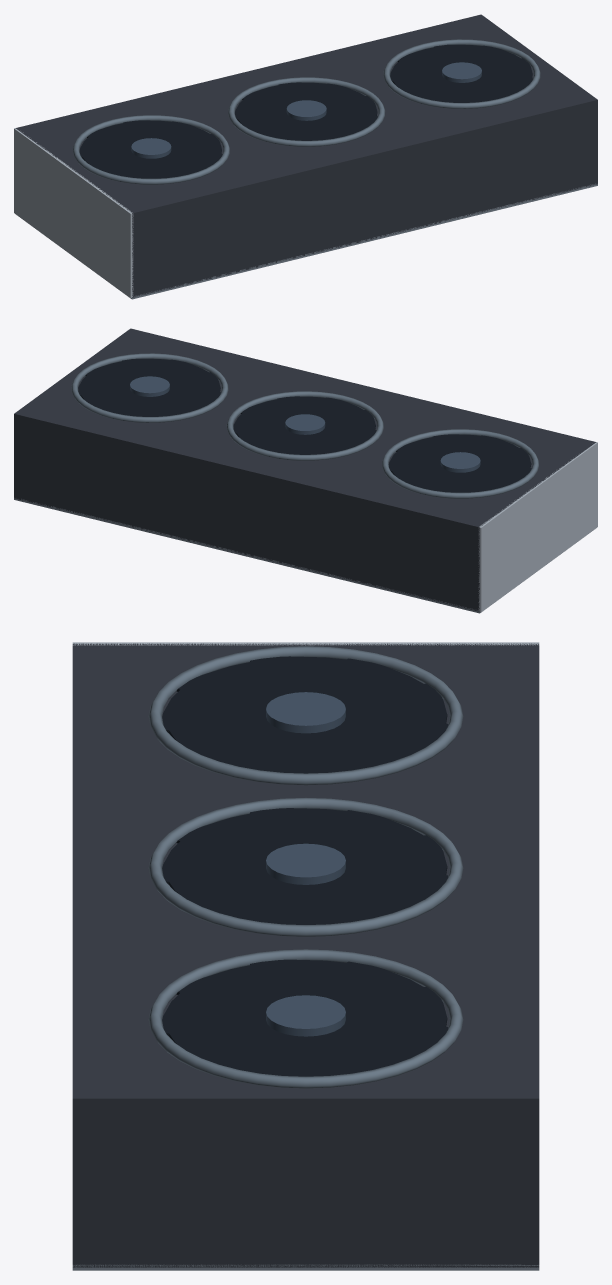
The model's file is retail-msi-geforce-rtx-3060-gaming-x-trio-12g.glb.
The picture shows the model from 3 angles, top to bottom: view 1: azimuth 30°, elevation 25°; view 2: azimuth 150°, elevation 25°; view 3: azimuth 270°, elevation 25°; orthographic projection. The views are drawn at different scales.
Visible parts, largest first — view 1: Cooler shroud, Cooler blade (×27), Bracket, Fan rim (×3), Fan hub (×3), Backplate; view 2: Cooler shroud, Cooler blade (×27), Bracket, Fan rim (×3), Fan hub (×3), Backplate; view 3: Cooler shroud, Cooler blade (×27), Fan rim (×3), Fan hub (×3), Backplate, Bracket.
Part boxes in pixels (<box>): Cooler shroud: <box>15,14,597,297</box>; Cooler blade (×27): <box>79,44,532,178</box>; Bracket: <box>14,128,133,298</box>; Fan rim (×3): <box>73,39,540,184</box>; Fan hub (×3): <box>131,62,481,158</box>; Backplate: <box>51,183,597,299</box>; Cooler shroud: <box>14,328,596,611</box>; Cooler blade (×27): <box>78,358,531,492</box>; Bracket: <box>478,442,597,612</box>; Fan rim (×3): <box>71,353,538,498</box>; Fan hub (×3): <box>130,376,480,472</box>; Backplate: <box>14,497,560,613</box>; Cooler shroud: <box>72,643,539,1267</box>; Cooler blade (×27): <box>162,656,448,1076</box>; Fan rim (×3): <box>148,646,463,1088</box>; Fan hub (×3): <box>266,692,345,1036</box>; Backplate: <box>72,1264,539,1270</box>; Bracket: <box>72,642,539,645</box>.
Bounding box in the file's own units: 0.324 × 0.0605 × 0.14.
